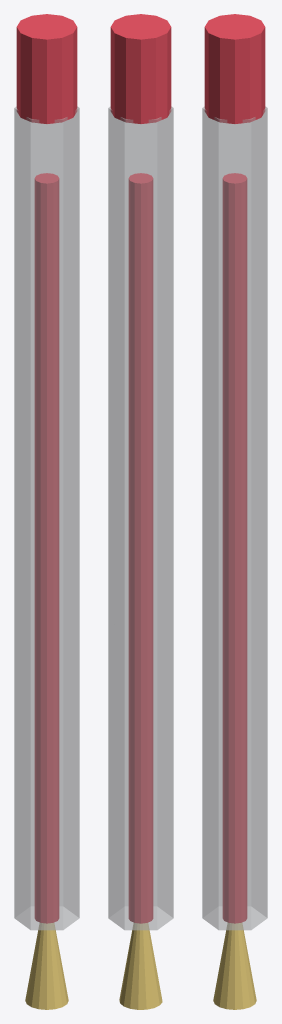
File: ballpoint_pen_red.glb
3 renders of one model, left to right at view 1: azimuth 90°, elevation 25°; view 2: azimuth 150°, elevation 25°; view 3: azimuth 270°, elevation 25°, orthographic.
Parts seen in each view (by area): view 1: Pen_HexBarrel, Pen_InkTue, Pen_TopPlug, Pen_BrassCone; view 2: Pen_HexBarrel, Pen_InkTue, Pen_TopPlug, Pen_BrassCone; view 3: Pen_HexBarrel, Pen_InkTue, Pen_TopPlug, Pen_BrassCone.
Part boxes in pixels (left/top/right/bottom): Pen_HexBarrel: left=14, top=106, right=79, bottom=930; Pen_InkTue: left=34, top=173, right=59, bottom=923; Pen_TopPlug: left=16, top=14, right=77, bottom=123; Pen_BrassCone: left=25, top=923, right=68, bottom=1009; Pen_HexBarrel: left=108, top=106, right=173, bottom=930; Pen_InkTue: left=128, top=173, right=153, bottom=923; Pen_TopPlug: left=110, top=14, right=171, bottom=123; Pen_BrassCone: left=119, top=923, right=162, bottom=1009; Pen_HexBarrel: left=202, top=106, right=267, bottom=930; Pen_InkTue: left=222, top=173, right=247, bottom=923; Pen_TopPlug: left=204, top=14, right=265, bottom=123; Pen_BrassCone: left=213, top=923, right=256, bottom=1009.
Size of the model in its own units: 0.0078 by 0.139 by 0.0084.
